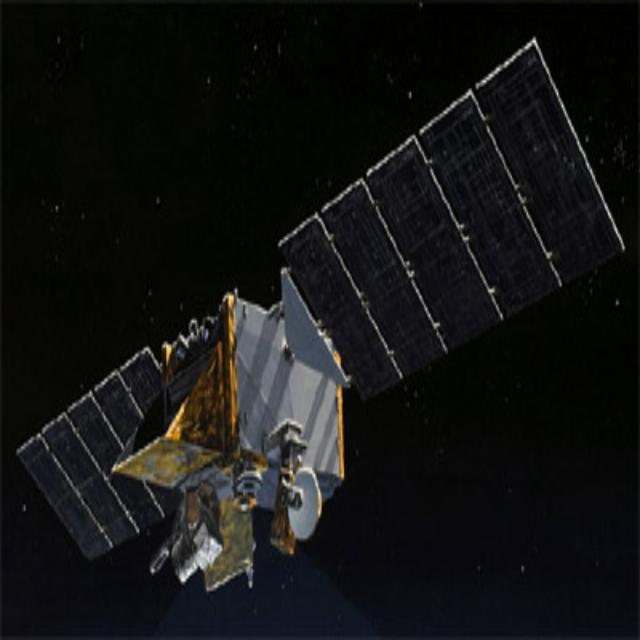medium_debris: (18, 26, 626, 594)
